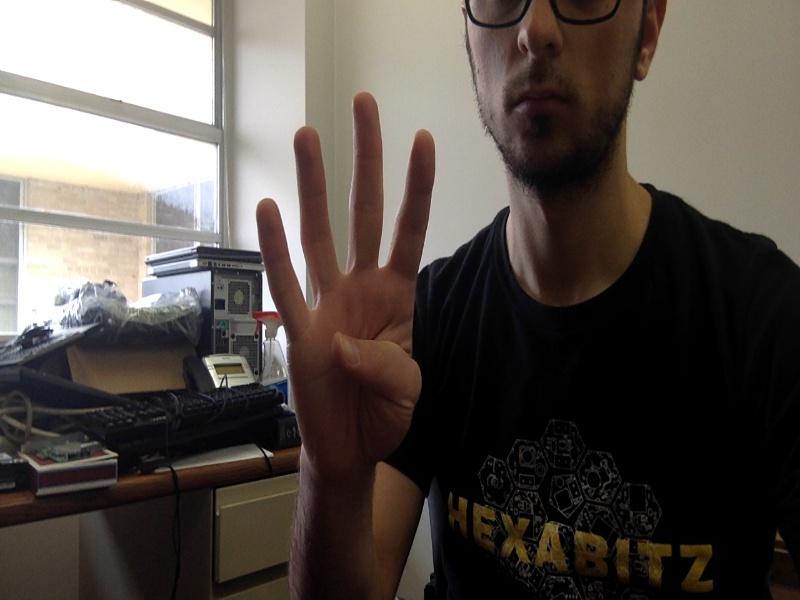4-hand: (256, 93, 435, 469)
